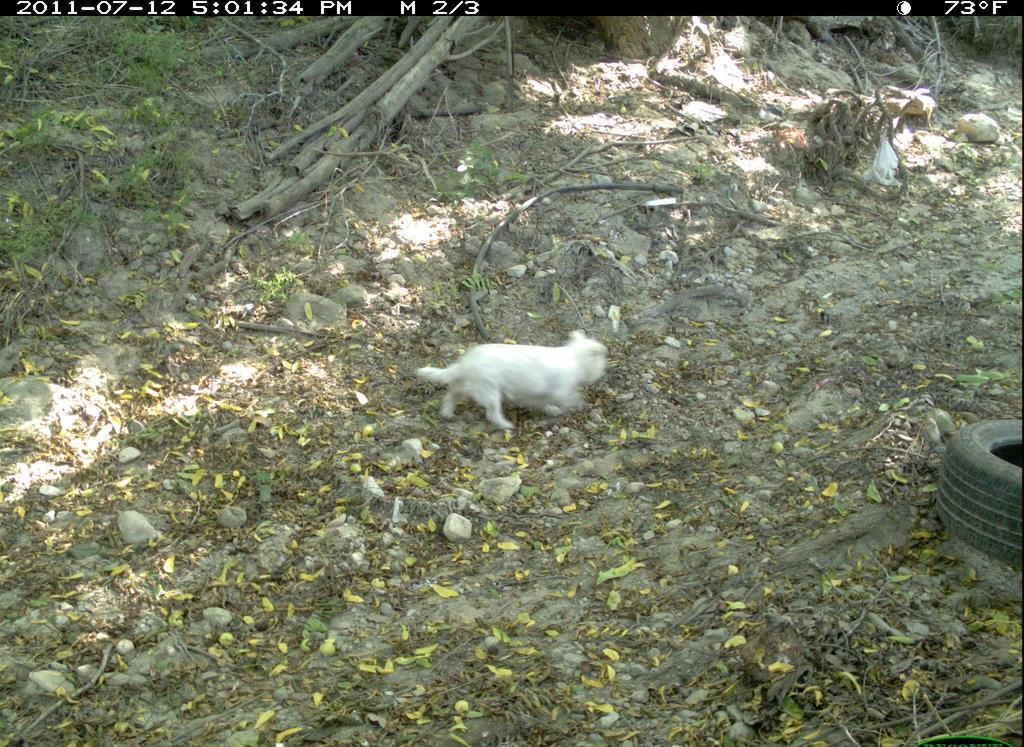dog: (406, 322, 621, 442)
